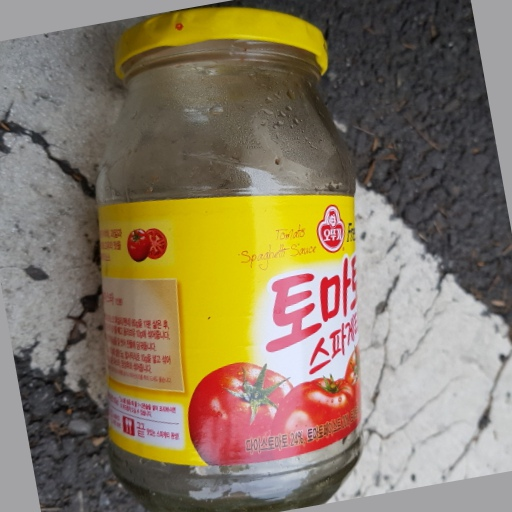Glass_5: (94, 7, 366, 511)
